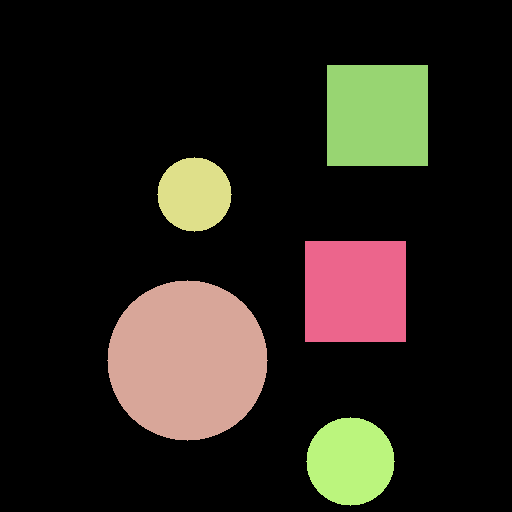circle: (107, 280, 267, 440), (306, 417, 394, 505), (157, 157, 231, 231)
square: (305, 241, 405, 341), (327, 65, 427, 165)
